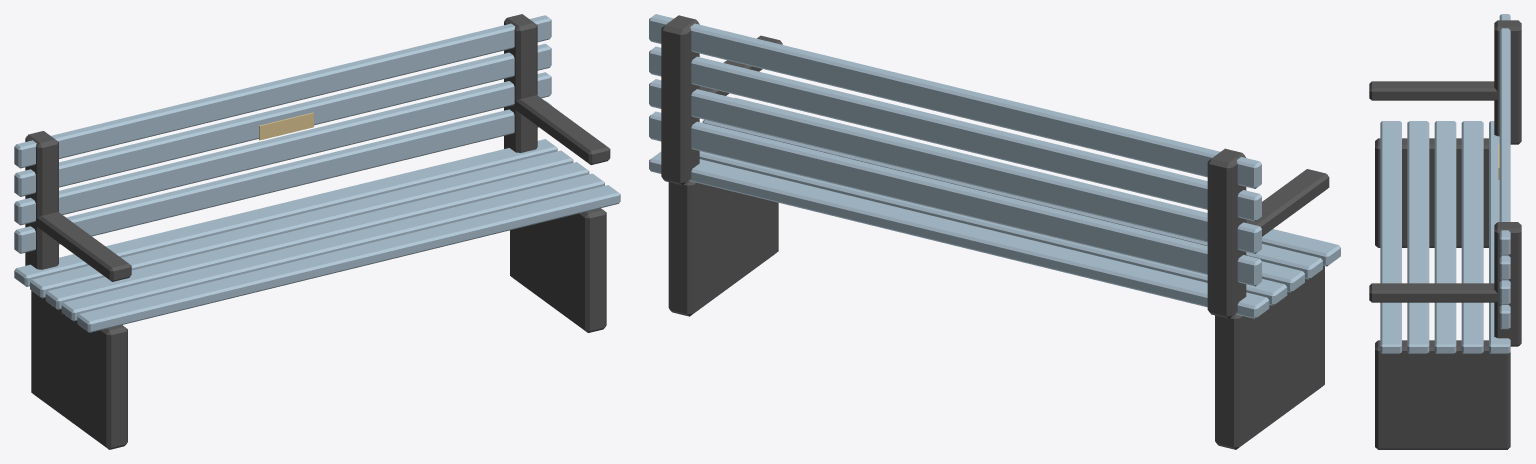
File: bench_blue.glb
3 views of the same model, side by side, from view 1: azimuth 30°, elevation 25°; view 2: azimuth 150°, elevation 25°; view 3: azimuth 270°, elevation 25° (orthographic). The views are drawn at different scales.
Parts seen in each view (by area): view 1: bench_blue; view 2: bench_blue; view 3: bench_blue.
Part boxes in pixels (box(x1,y1,x2,y2)): bench_blue: box(14, 14, 620, 449); bench_blue: box(649, 14, 1340, 449); bench_blue: box(1369, 14, 1521, 449).
Size of the model in its own units: 1.96 by 0.9 by 0.56.
